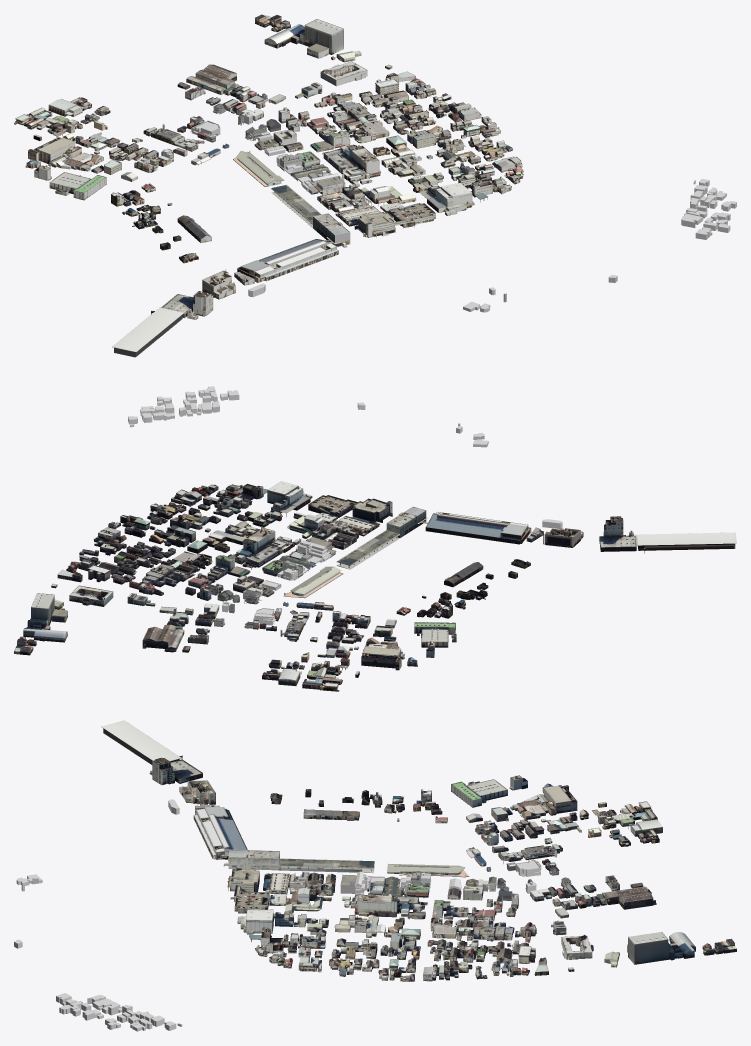
File: lod3-port-packed.glb
3 renders of one model, top to bottom at view 1: azimuth 30°, elevation 25°; view 2: azimuth 150°, elevation 25°; view 3: azimuth 270°, elevation 25°, orthographic. The views are drawn at different scales.
Size of the model in its own units: 891 by 29.59 by 891.
Materials: 50 (49 with a texture image).
